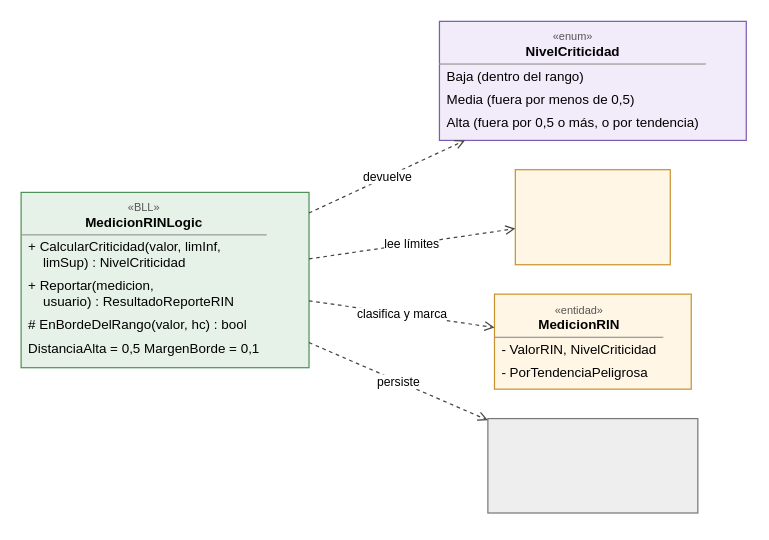
This 769x540 diagram has some shape labels left out. The shapes that lost their labels are listed below. From the top down, each one's centre as x and y in pixels, then its label:
At (592,216): "«entidad» HistoriaClinica - LimiteInferiorRIN - LimiteSuperiorRIN".
At (592,465): "«EF Core» NegocioDbContext (consultas de lectura)".
